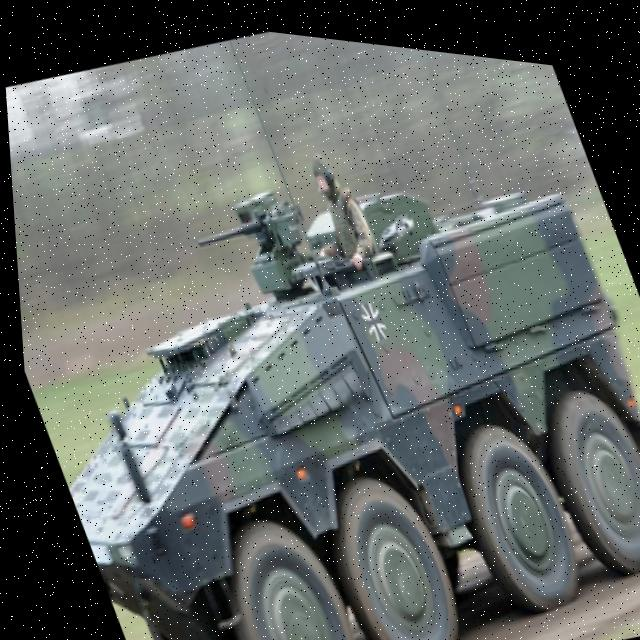MIL_APC: (4, 83, 640, 640)
